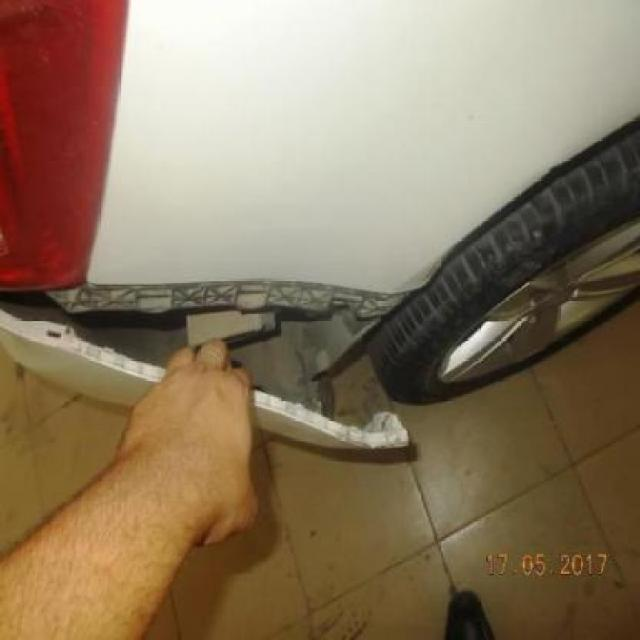damage: (0, 268, 439, 447)
